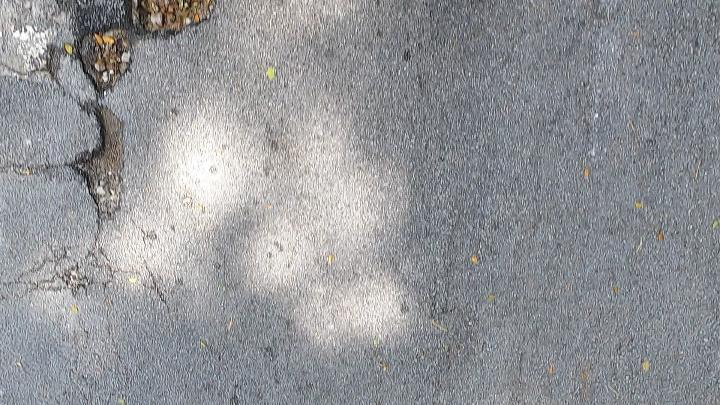Pothole: (0, 0, 225, 321), (0, 0, 215, 320)
